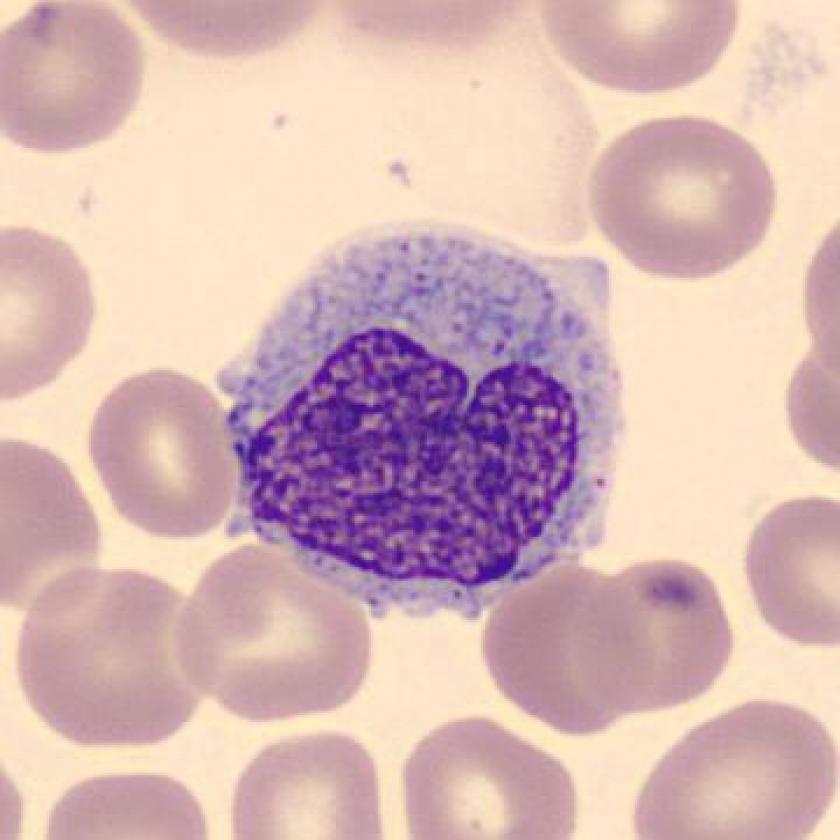monocyte: (206, 207, 657, 633)
